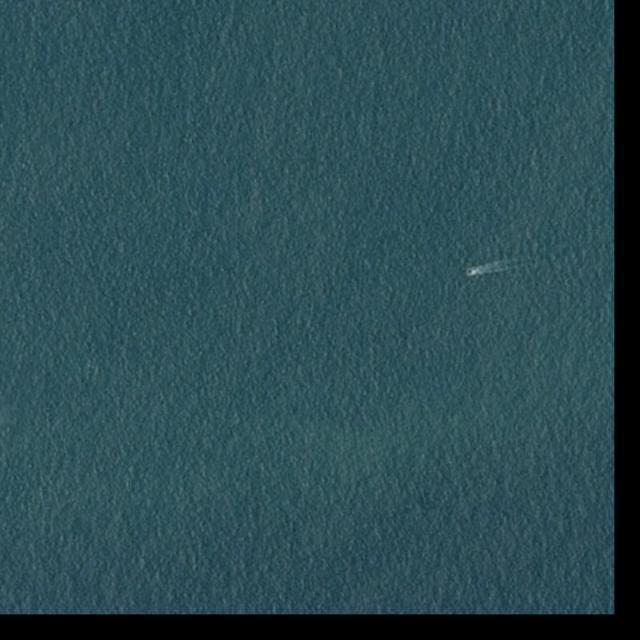ship: (466, 269, 478, 276)
